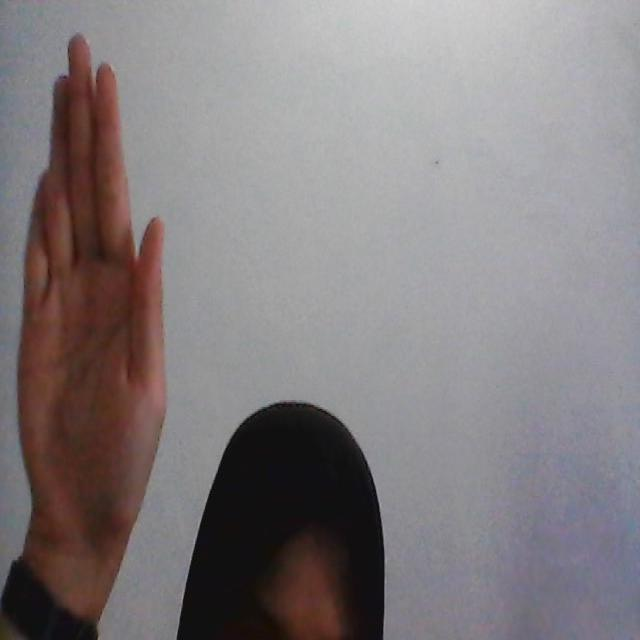hand: (13, 36, 169, 610)
